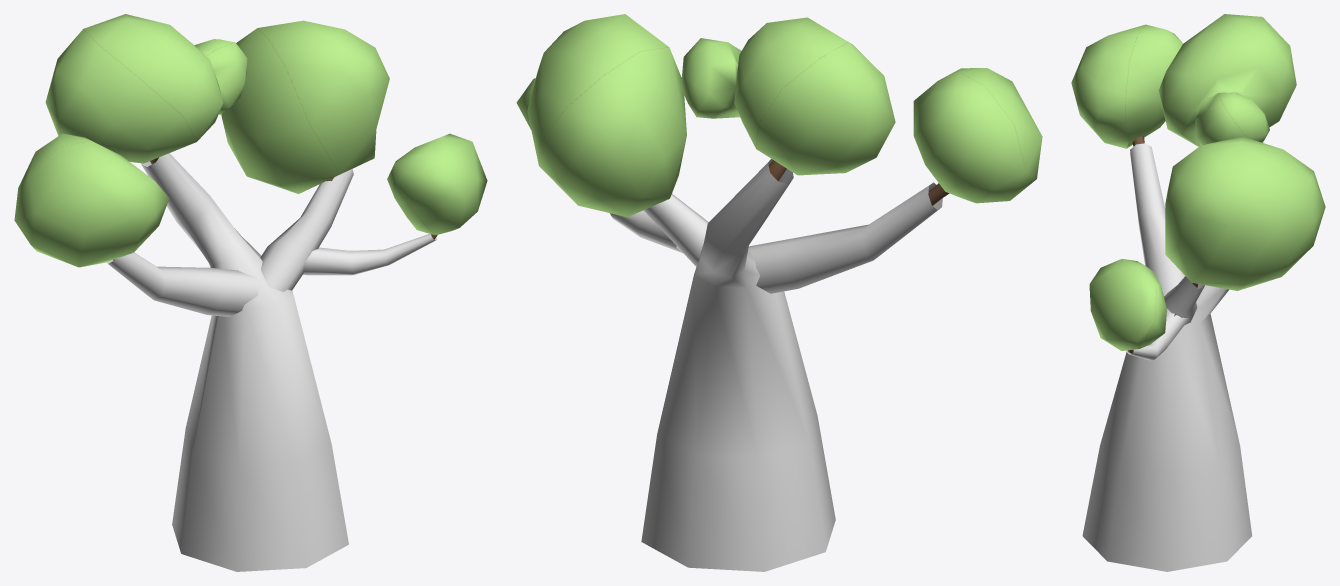
File: tree_01.fbx
3 views of the same model, side by side, from view 1: azimuth 30°, elevation 25°; view 2: azimuth 150°, elevation 25°; view 3: azimuth 270°, elevation 25° (orthographic). The views are drawn at different scales.
Parts seen in each view (by area): view 1: 0Tree_v1.001, CoL-01_tree, CoL-02_tree, CoL-03_tree, CoL_04_tree; view 2: 0Tree_v1.001, CoL-01_tree, CoL-02_tree, CoL-03_tree, CoL_04_tree; view 3: 0Tree_v1.001, CoL-01_tree, CoL-02_tree, CoL-03_tree, CoL_04_tree.
Part boxes in pixels (box(x1,y1,x2,y2)): 0Tree_v1.001: box(14, 14, 487, 267); CoL-01_tree: box(141, 153, 348, 571); CoL-02_tree: box(106, 252, 259, 316); CoL-03_tree: box(260, 169, 353, 291); CoL_04_tree: box(303, 234, 436, 275); 0Tree_v1.001: box(516, 14, 1042, 217); CoL-01_tree: box(641, 159, 835, 571); CoL-02_tree: box(748, 182, 942, 293); CoL-03_tree: box(643, 194, 708, 266); CoL_04_tree: box(609, 210, 682, 252); 0Tree_v1.001: box(1071, 14, 1325, 353); CoL-01_tree: box(1082, 285, 1252, 571); CoL-02_tree: box(1130, 143, 1184, 296); CoL-03_tree: box(1164, 276, 1204, 324); CoL_04_tree: box(1127, 308, 1188, 360).
Bounding box in the file's own units: 116 × 59.24 × 121.
